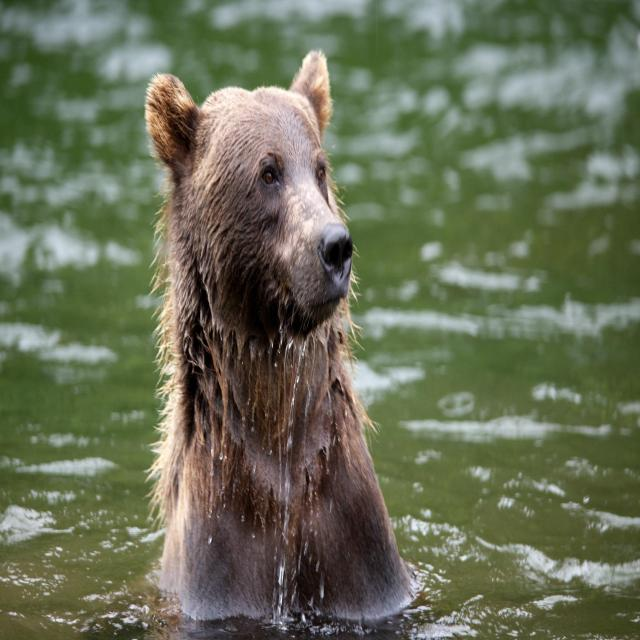Bear: (144, 50, 423, 640)
